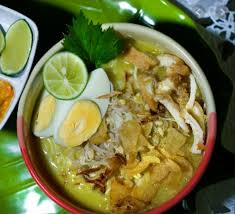soto: (10, 21, 217, 207)
